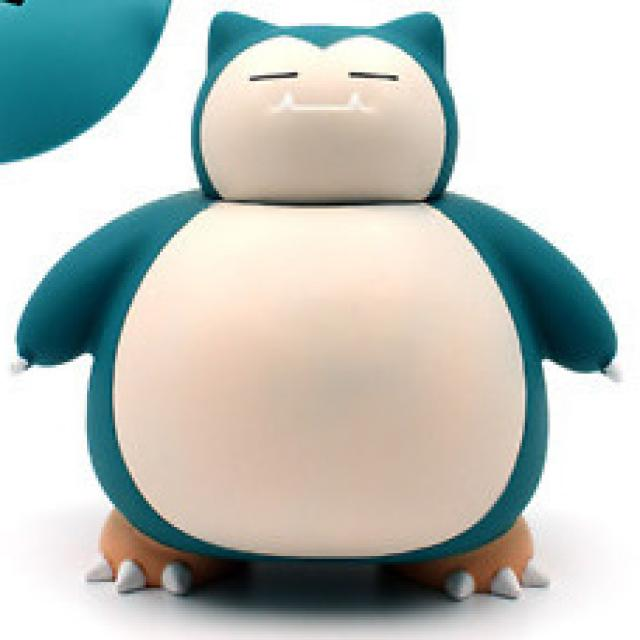Snorlax: (90, 10, 556, 592)
